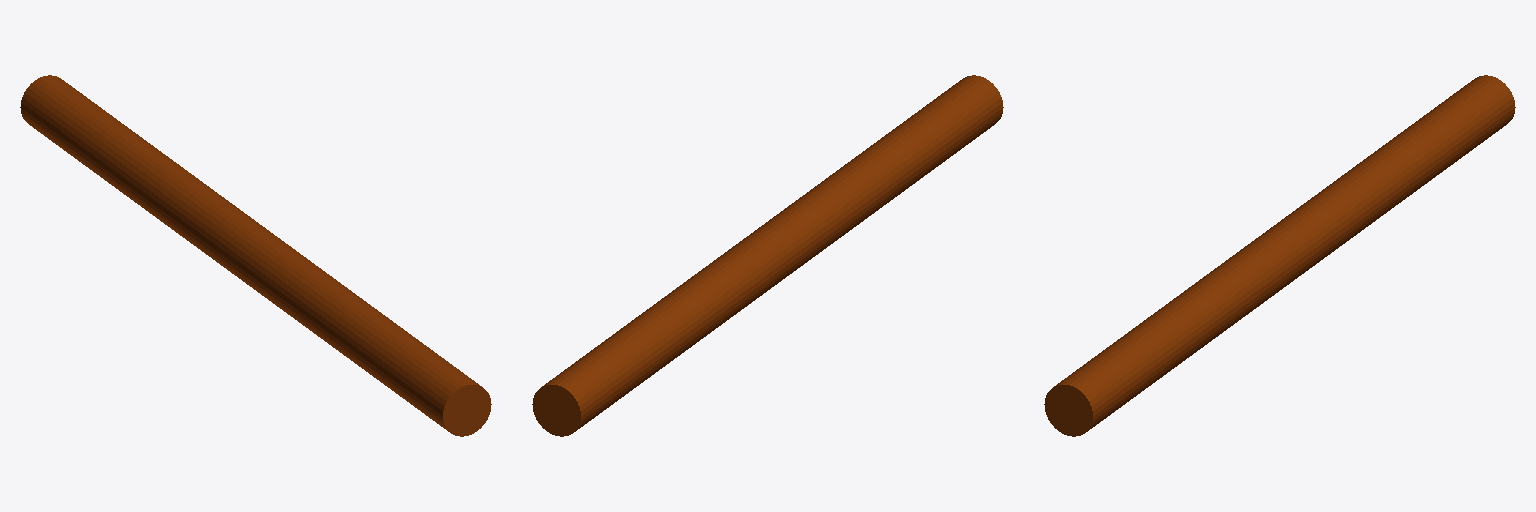
The robot description file, URDF, robot "cylinder":
<?xml version="1.0" ?>
<!-- =================================================================================== -->
<!-- |    This document was autogenerated by xacro from cylinder.xacro                 | -->
<!-- |    EDITING THIS FILE BY HAND IS NOT RECOMMENDED                                 | -->
<!-- =================================================================================== -->
<robot name="cylinder">
  <link name="world"/>
  <link name="base">
    <visual>
      <origin rpy="1.57079633 0 0" xyz="0 0 0"/>
      <geometry>
        <cylinder length="7.07106781185" radius="0.235"/>
      </geometry>
      <material name="cylinder_material">
        <color rgba="0.545 0.271 0.075 1.0"/>
        <texture filename="../textures/tree_bark.jpg"/>
      </material>
    </visual>
    <collision>
      <origin rpy="1.57079633 0 0" xyz="0 0 0"/>
      <geometry>
        <cylinder length="7.07106781185" radius="0.235"/>
      </geometry>
    </collision>
    <inertial>
      <origin rpy="0 0 0" xyz="0 0 0"/>
      <mass value="1"/>
      <inertia ixx="4.180472916648428" ixy="0.0" ixz="0.0" iyy="4.180472916648428" iyz="0.0" izz="24.999999999890573"/>
    </inertial>
  </link>
  <joint name="base_joint" type="fixed">
    <parent link="world"/>
    <child link="base"/>
    <origin rpy="0 0 0" xyz="0.0 0.0 0.0"/>
  </joint>
</robot>

--- What the picture shows (computed from the rendered views, not written in the file) ---
3 views of the same robot in one strip: view 1: azimuth 30°, elevation 25°; view 2: azimuth 150°, elevation 25°; view 3: azimuth 330°, elevation 25° (orthographic).
Model cylinder with 2 links and 1 joints (1 fixed), rooted at world, posed every joint at zero.
Visible links, largest first — view 1: base; view 2: base; view 3: base.
Link boxes in pixels (x1,y1,x2,y2): base: (20,75,491,436); base: (532,75,1003,436); base: (1044,75,1515,436).
Bounding box of the posed robot: 0.47 × 7.07 × 0.47 m (x, y, z).
Geometry: primitives only (box / cylinder / sphere), no mesh files.
